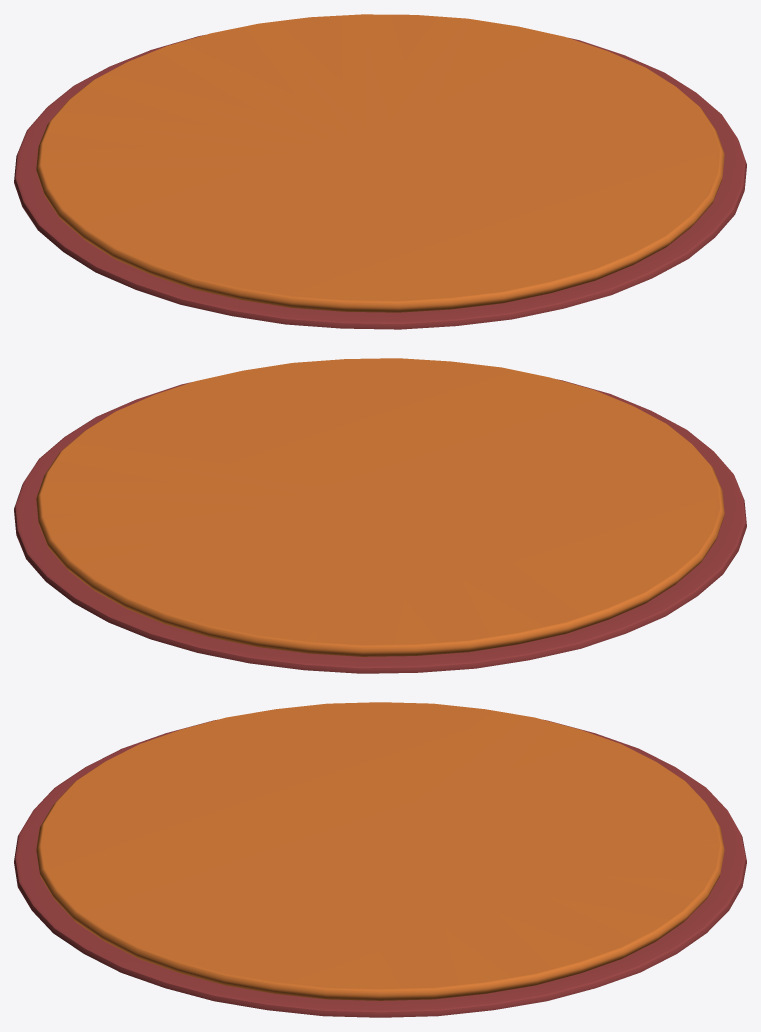
File: Circel 1.fbx
3 views of the same model, one above another, from view 1: azimuth 30°, elevation 25°; view 2: azimuth 150°, elevation 25°; view 3: azimuth 270°, elevation 25° (orthographic).
Parts seen in each view (by area): view 1: Circel; view 2: Circel; view 3: Circel.
Boxes of the visible parts, <box> form: Circel: <box>14,14,746,329</box>; Circel: <box>14,358,746,673</box>; Circel: <box>14,702,746,1017</box>.
Size of the model in its own units: 3352 by 87.34 by 3352.
